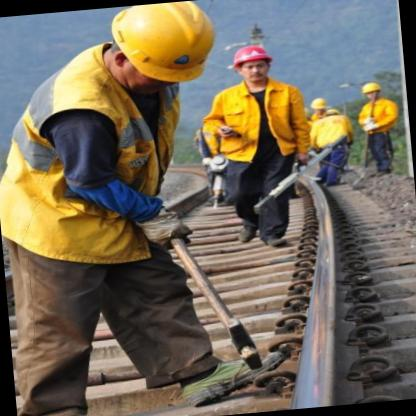helmet: (96, 1, 225, 92), (228, 38, 280, 90), (362, 78, 387, 107), (311, 96, 331, 120)
